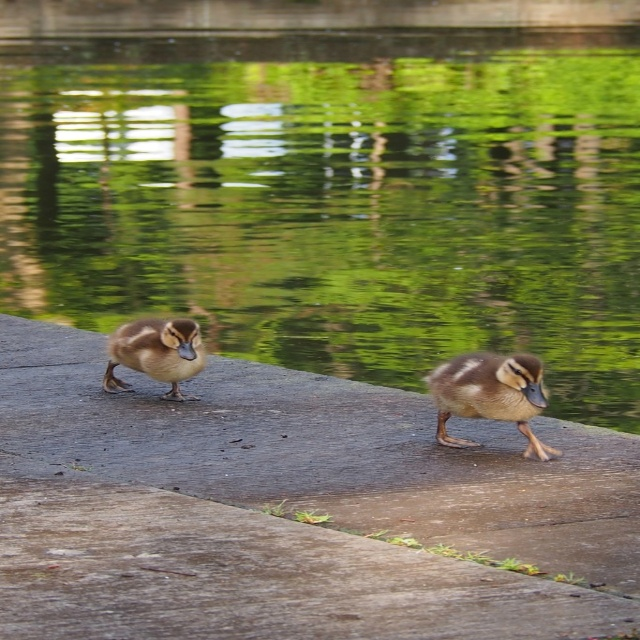Goose: (426, 355, 560, 462), (94, 311, 226, 409)
